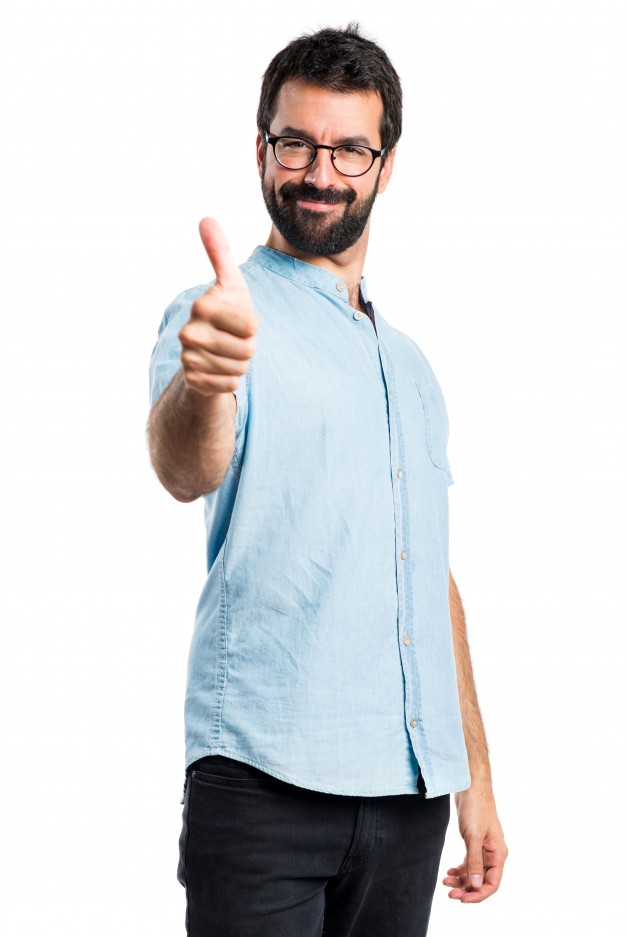thumbsup: (178, 216, 255, 393)
